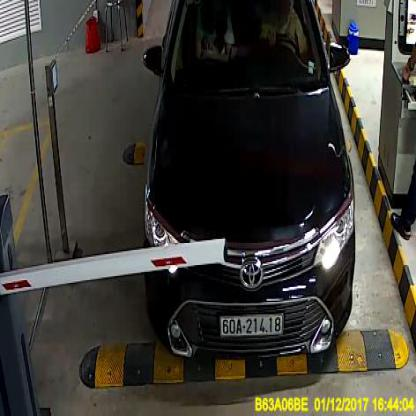biensoxe: (219, 314, 282, 336)
